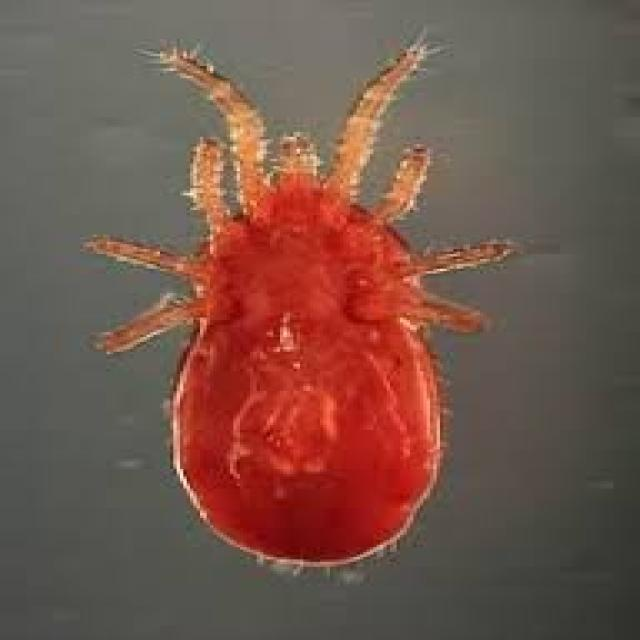Mites: (44, 8, 540, 589)
